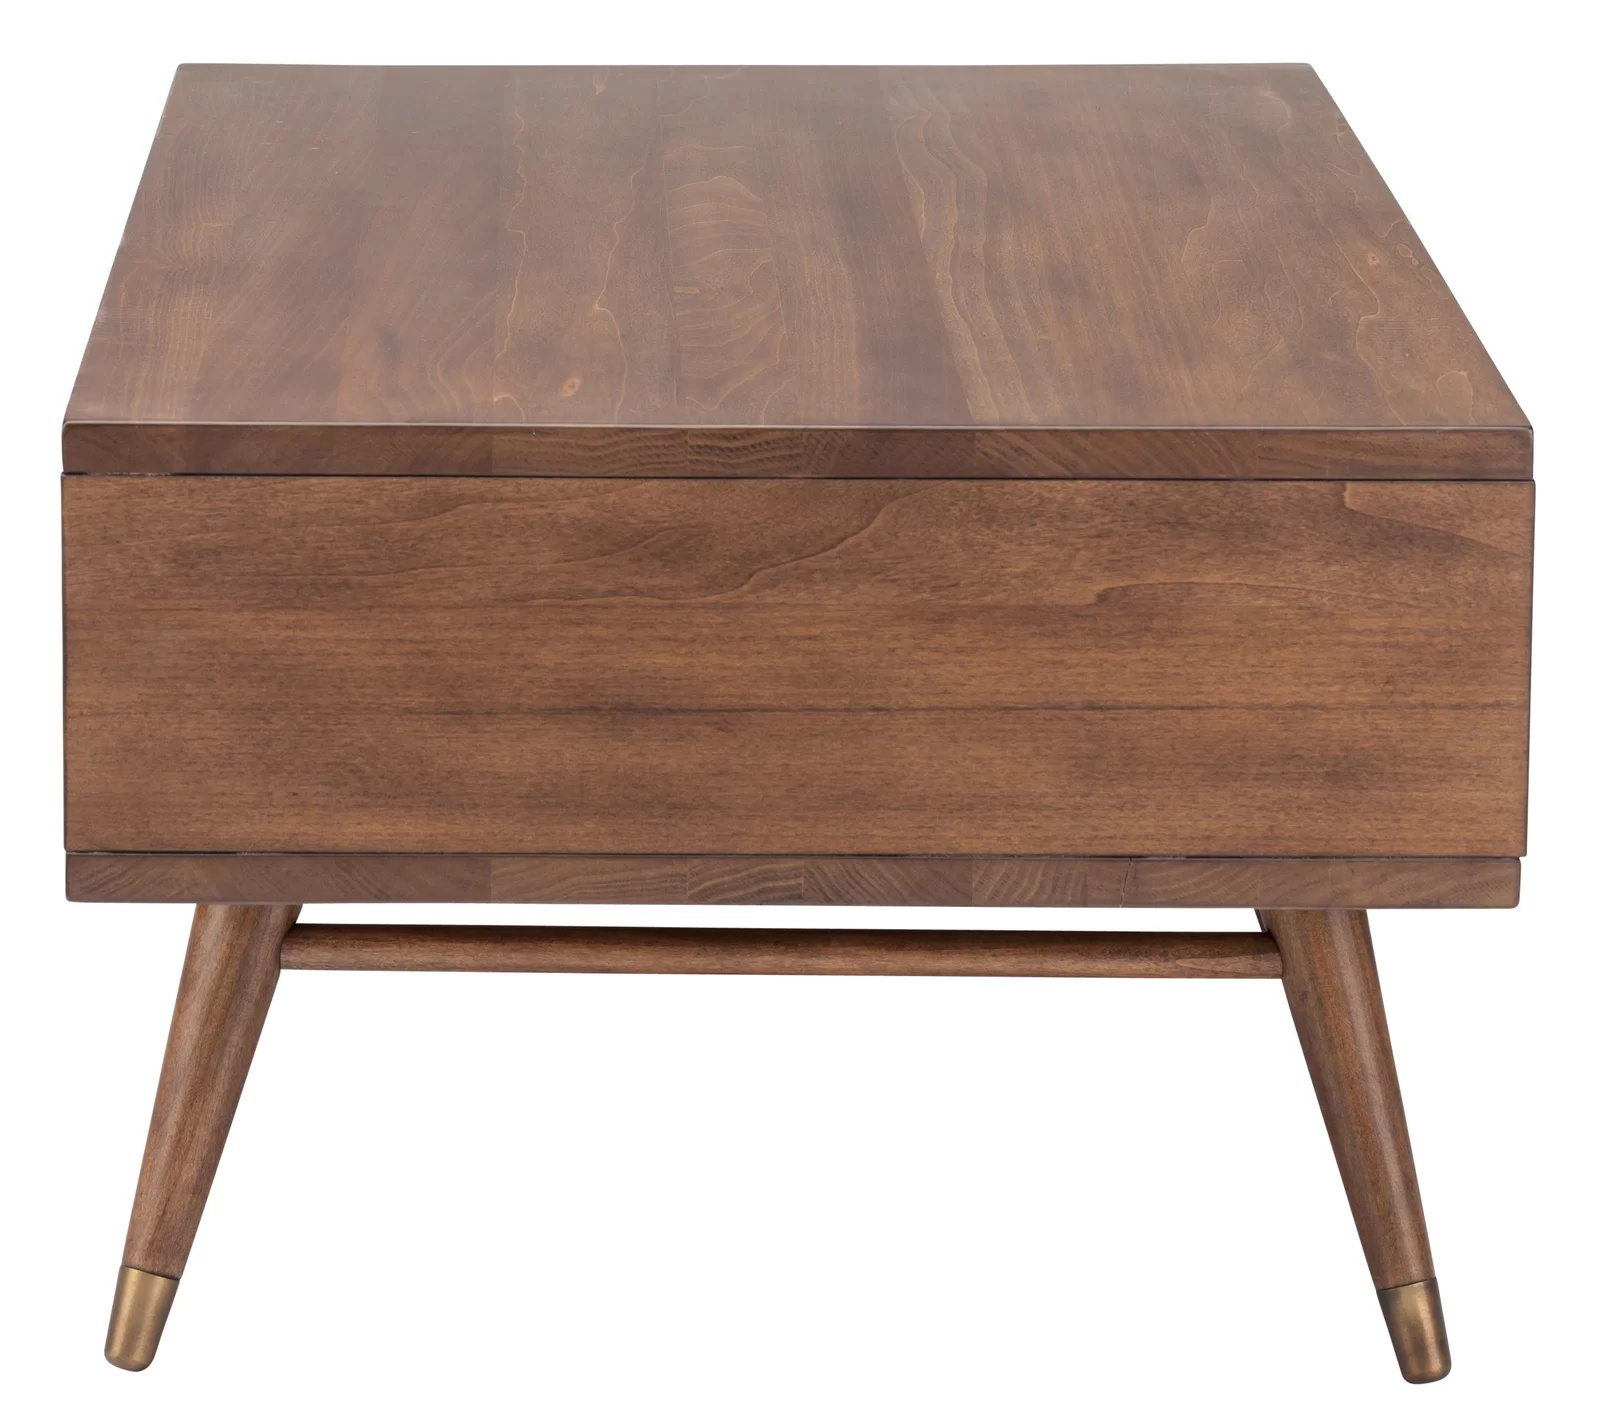obstacle: (63, 64, 1531, 1382)
